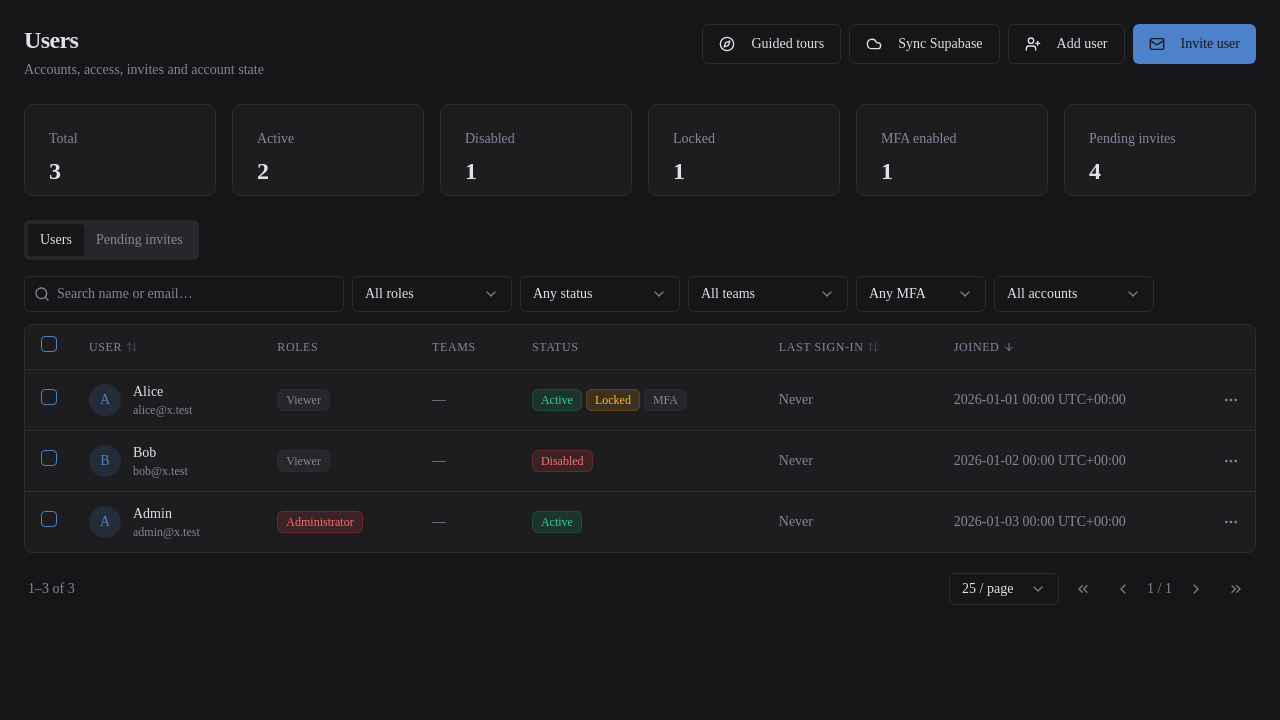
Scenario: Users admin page: actions › shows a guard refusal inside the disable dialog
Expected: the text "alice@x.test" is shown, [133, 402, 192, 418]
Press . in the row that starts with "Alice", box [25, 369, 1255, 430]
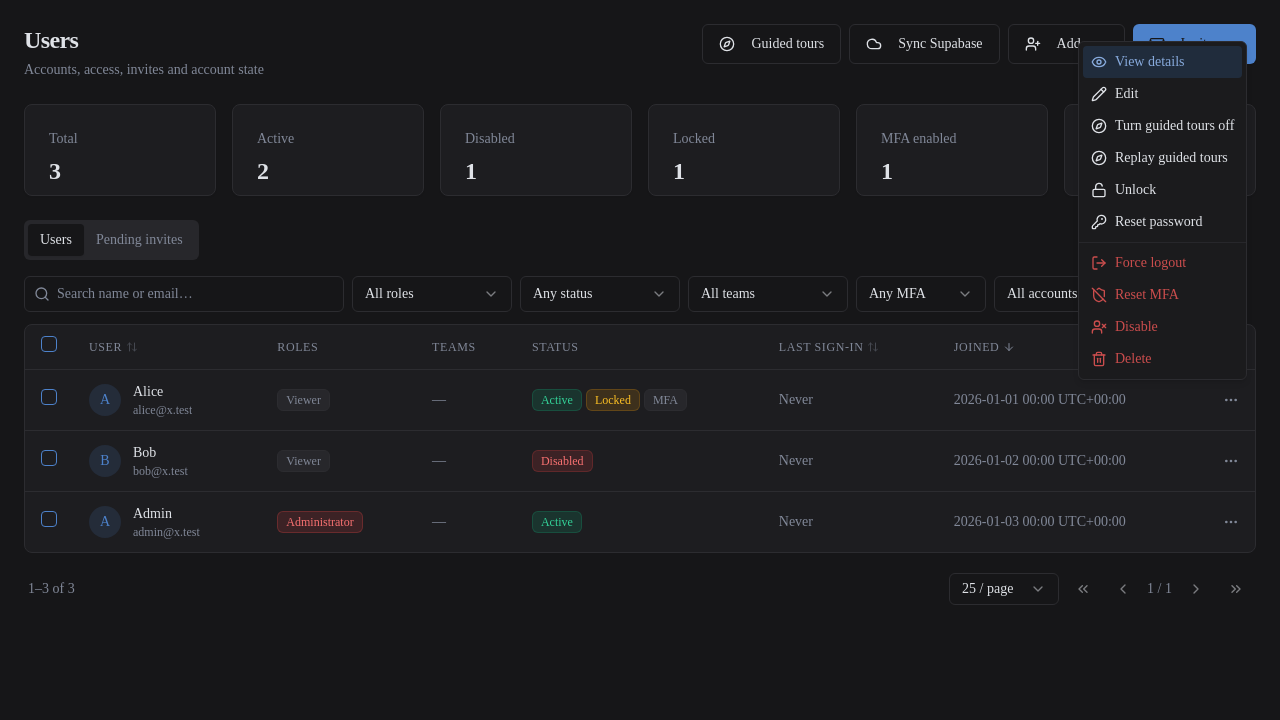
Click the menu item "Disable" at (1124, 327), box [1091, 319, 1158, 335]
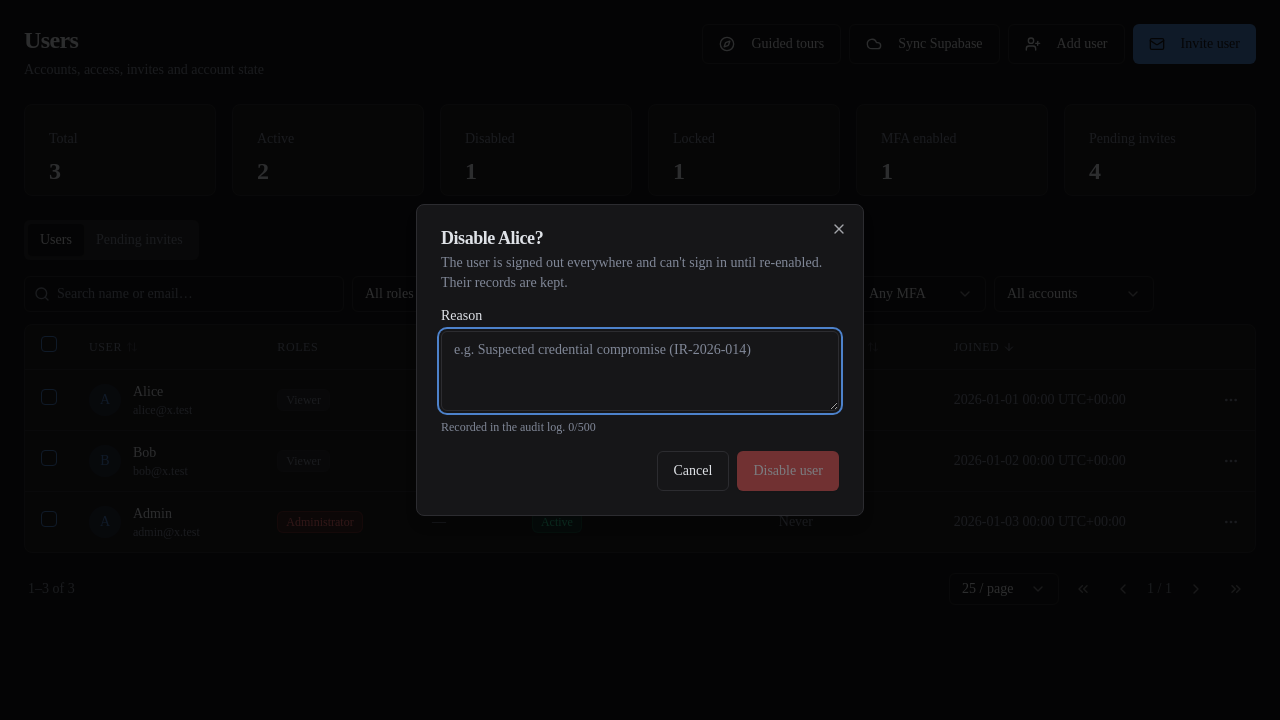
Type "offboarding" into the text box labelled "Reason" at (640, 371), box [441, 331, 839, 411]
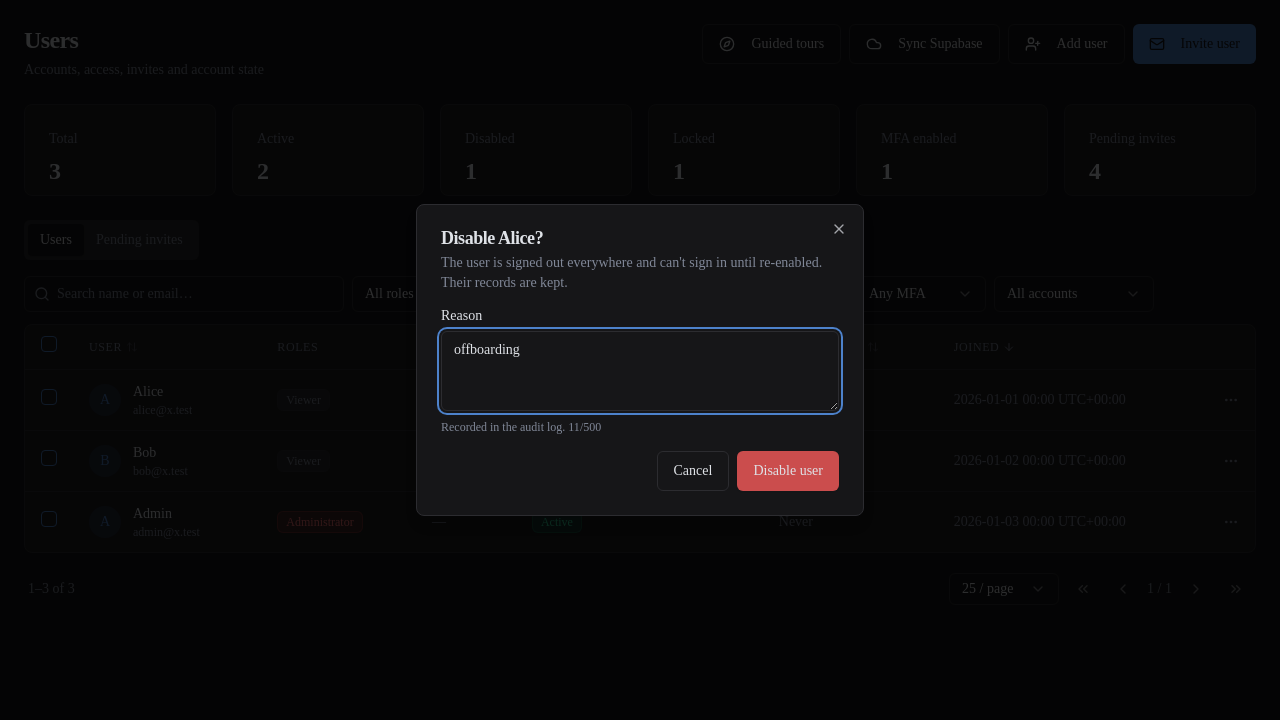
Click the button "Disable user" at (788, 471), box [737, 451, 839, 491]
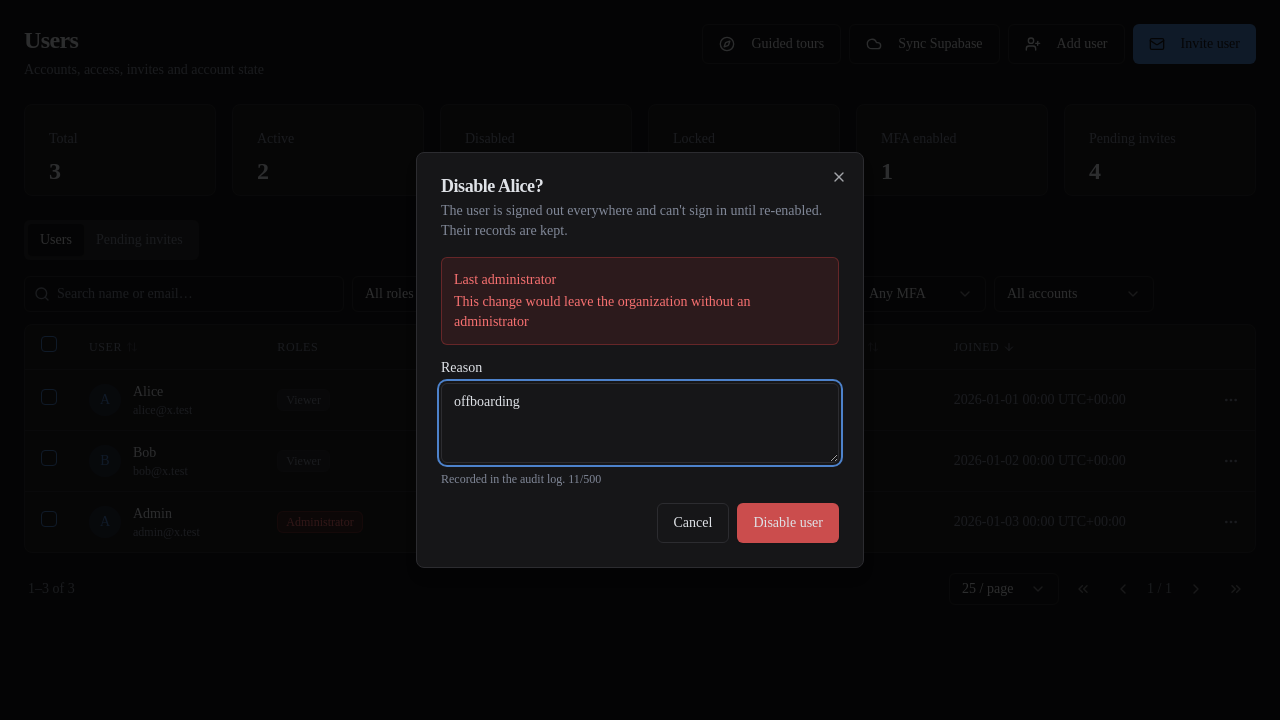
Expected: the message shows "Last administrator", [454, 272, 556, 287]
